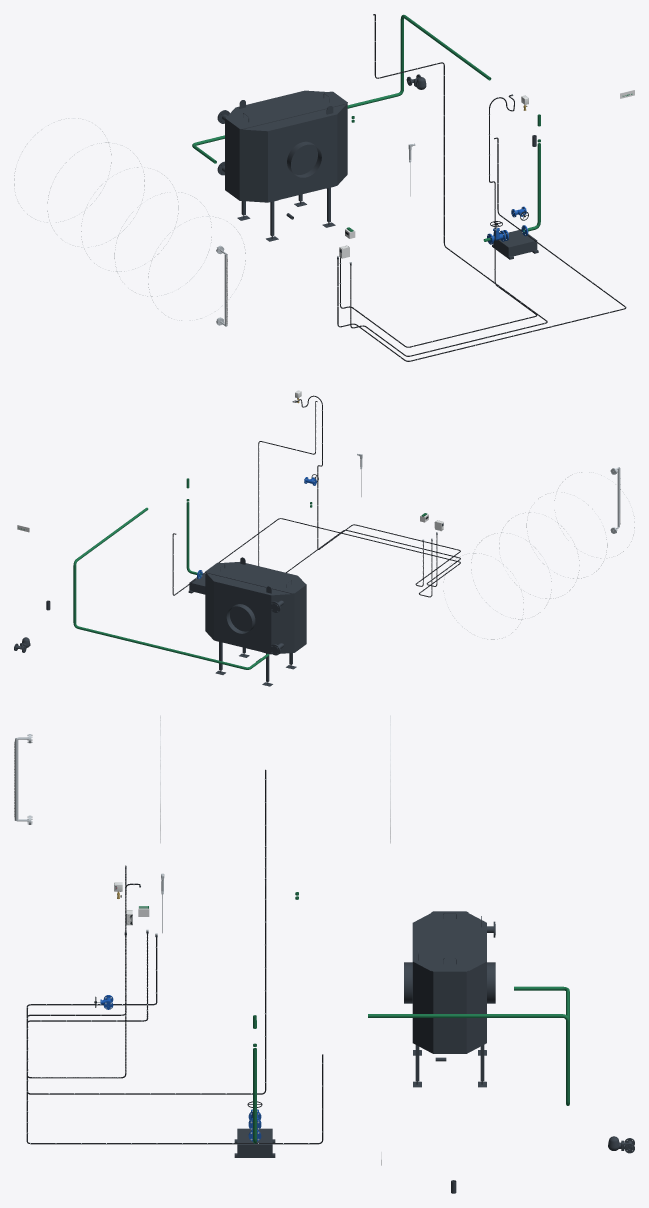
3 views of the same model, one above another, from view 1: azimuth 30°, elevation 25°; view 2: azimuth 150°, elevation 25°; view 3: azimuth 270°, elevation 25° (orthographic). The views are drawn at different scales.
Visible parts, largest first — view 1: EQS2-3000 CAD 0, EQS2-3000 CAD 3, EQS2-3000 CAD 1, gpz_drive_cable / black, to_economizer / green, wiring_pump_2 / black, wiring_pressure_switch_3 / black, pump_branch_1 / dark, deaerator_details / steel; view 2: EQS2-3000 CAD 0, EQS2-3000 CAD 3, EQS2-3000 CAD 2, to_economizer / green, wiring_pump_2 / black, gpz_drive_cable / black, wiring_pressure_switch_3 / black, deaerator_details / steel; view 3: EQS2-3000 CAD 3, to_economizer / green, EQS2-3000 CAD 0, gpz_drive_cable / black, wiring_pump_2 / black, wiring_pressure_switch_3 / black, pump_branch_1 / dark, deaerator_details / steel.
Part boxes in pixels (x1,y1,x2,y2): EQS2-3000 CAD 0: (237, 114, 337, 241); EQS2-3000 CAD 3: (225, 90, 347, 200); EQS2-3000 CAD 1: (239, 129, 267, 202); gpz_drive_cable / black: (350, 14, 547, 356); to_economizer / green: (192, 14, 491, 163); wiring_pump_2 / black: (337, 137, 626, 361); wiring_pressure_switch_3 / black: (340, 95, 537, 347); pump_branch_1 / dark: (492, 229, 538, 259); deaerator_details / steel: (14, 118, 245, 326); EQS2-3000 CAD 0: (214, 581, 296, 686); EQS2-3000 CAD 3: (205, 557, 306, 652); EQS2-3000 CAD 2: (269, 594, 294, 655); to_economizer / green: (73, 507, 269, 669); wiring_pump_2 / black: (172, 518, 460, 597); gpz_drive_cable / black: (258, 401, 460, 586); wiring_pressure_switch_3 / black: (294, 395, 460, 586); deaerator_details / steel: (443, 467, 634, 639); EQS2-3000 CAD 3: (413, 911, 486, 1053); to_economizer / green: (368, 986, 569, 1105); EQS2-3000 CAD 0: (404, 923, 495, 1087); gpz_drive_cable / black: (26, 769, 266, 1094); wiring_pump_2 / black: (26, 933, 323, 1144); wiring_pressure_switch_3 / black: (26, 865, 157, 1078); pump_branch_1 / dark: (234, 1128, 275, 1157); deaerator_details / steel: (14, 715, 390, 843).
Bounding box in the file's own units: 9.02 × 3.71 × 6.88.
